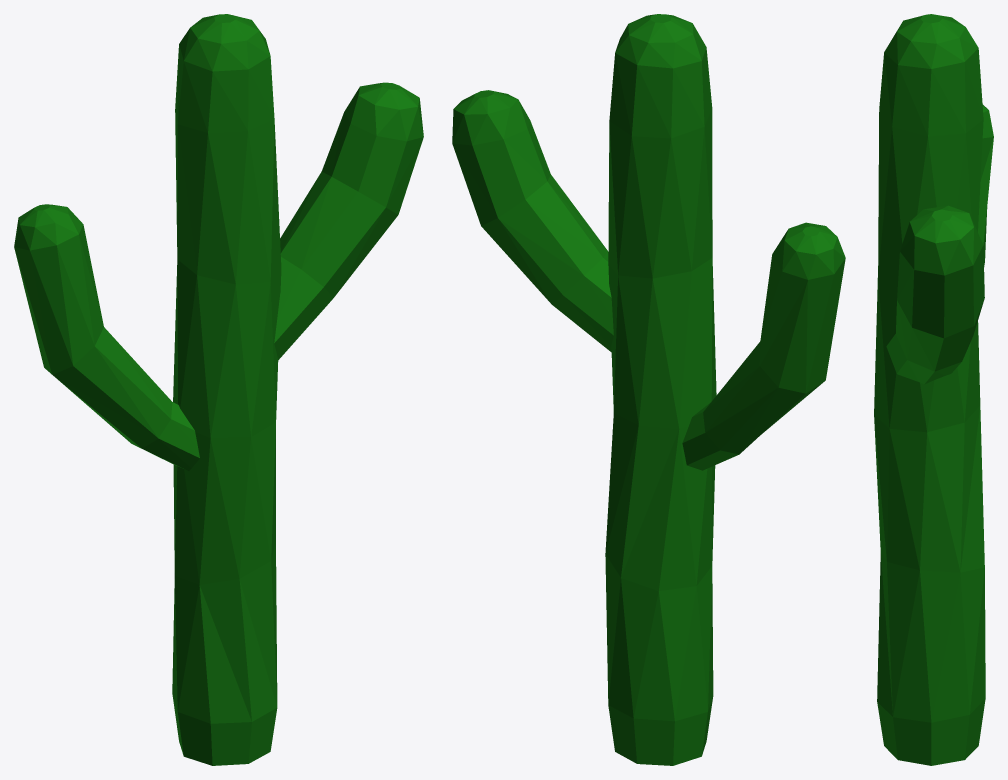
Rendered from cactus.FBX.
3 renders of one model, left to right at view 1: azimuth 30°, elevation 25°; view 2: azimuth 150°, elevation 25°; view 3: azimuth 270°, elevation 25°, orthographic.
Parts seen in each view (by area): view 1: Cactus_4; view 2: Cactus_4; view 3: Cactus_4.
Boxes of the visible parts, left/top/right/bottom form: Cactus_4: left=14, top=14, right=423, bottom=765; Cactus_4: left=452, top=14, right=845, bottom=765; Cactus_4: left=874, top=14, right=993, bottom=765.
Size of the model in its own units: 85.08 by 151 by 22.61.
